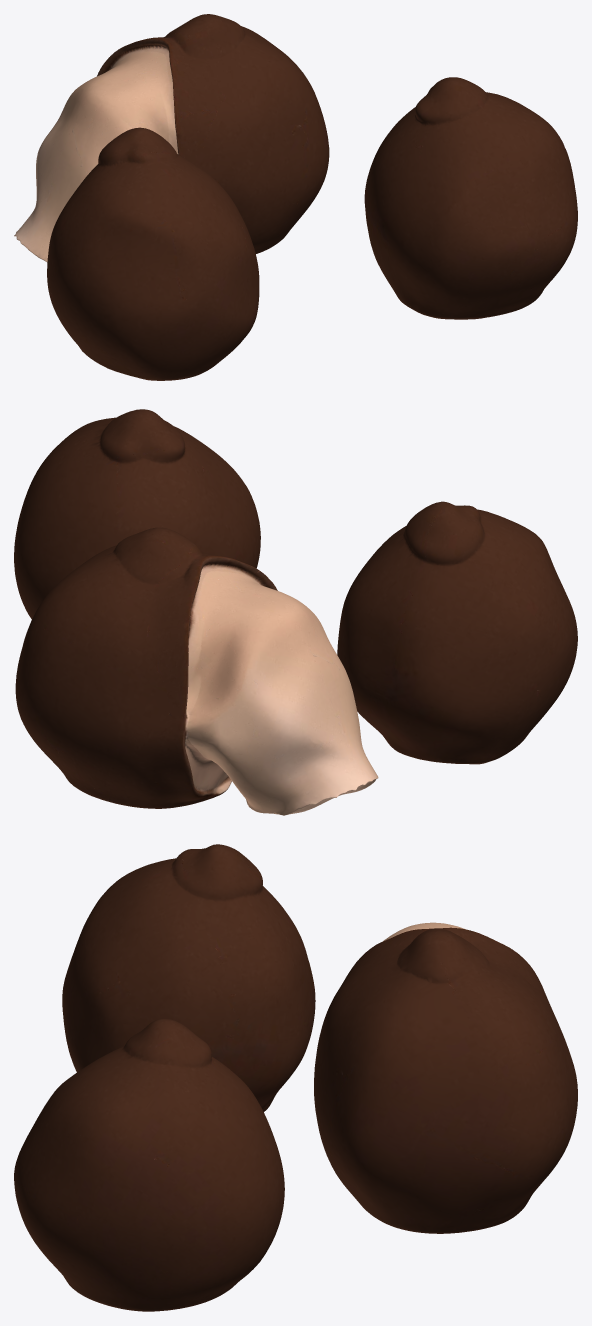
The model's file is parati-caja-bombones-sin.glb.
3 views of the same model, one above another, from view 1: azimuth 30°, elevation 25°; view 2: azimuth 150°, elevation 25°; view 3: azimuth 270°, elevation 25° (orthographic). The views are drawn at different scales.
Parts seen in each view (by area): view 1: RealWorldScale; view 2: RealWorldScale; view 3: RealWorldScale.
Boxes of the visible parts, x1,y1,x2,y2 form: RealWorldScale: [14, 14, 577, 380]; RealWorldScale: [14, 409, 577, 815]; RealWorldScale: [14, 844, 577, 1311].
Size of the model in its own units: 0.18 by 0.0816 by 0.1528.
Materials: 1 (1 with a texture image).
